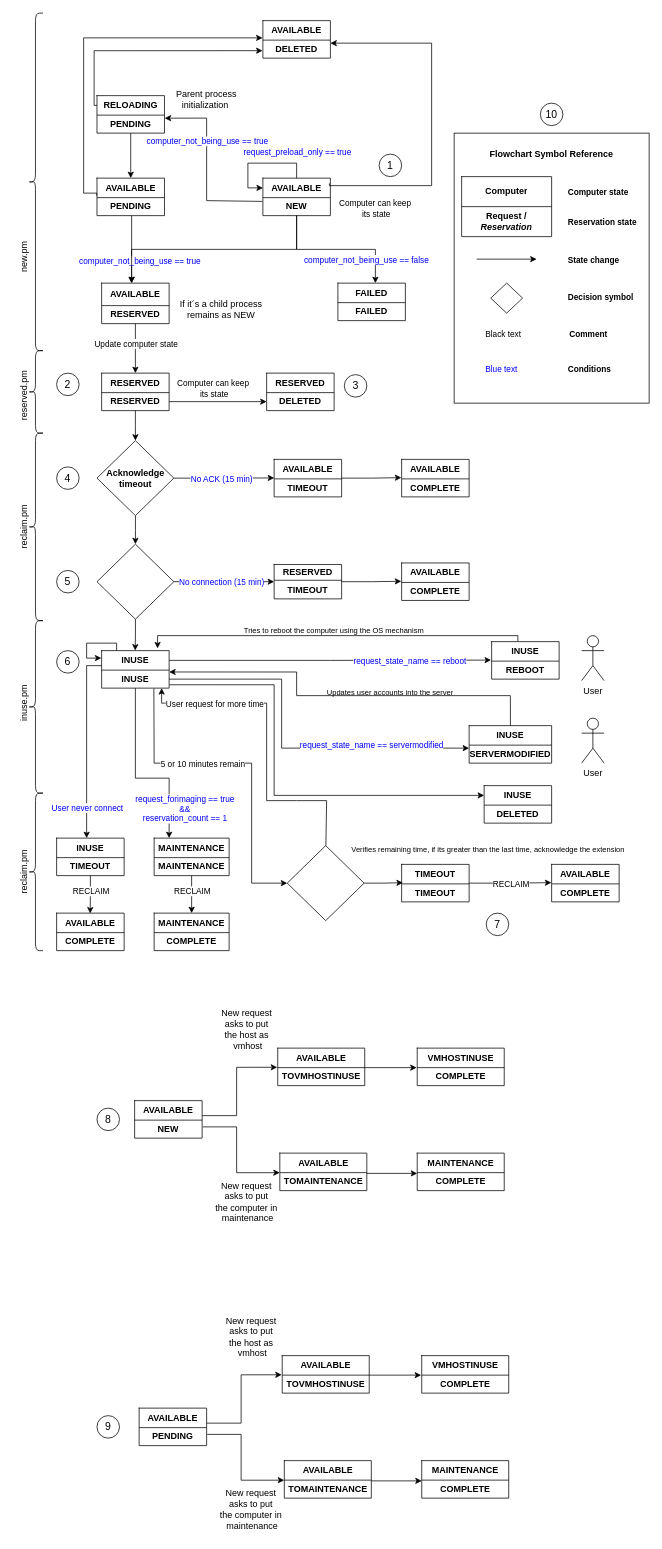
The diagram is 662 pixels wide and 1549 high, and some of its shapes have lost their labels. Each missing label, with the centre of its shape:
"Initial Connection timeout" belongs at (135,581).
"Time is up" belongs at (325,883).
